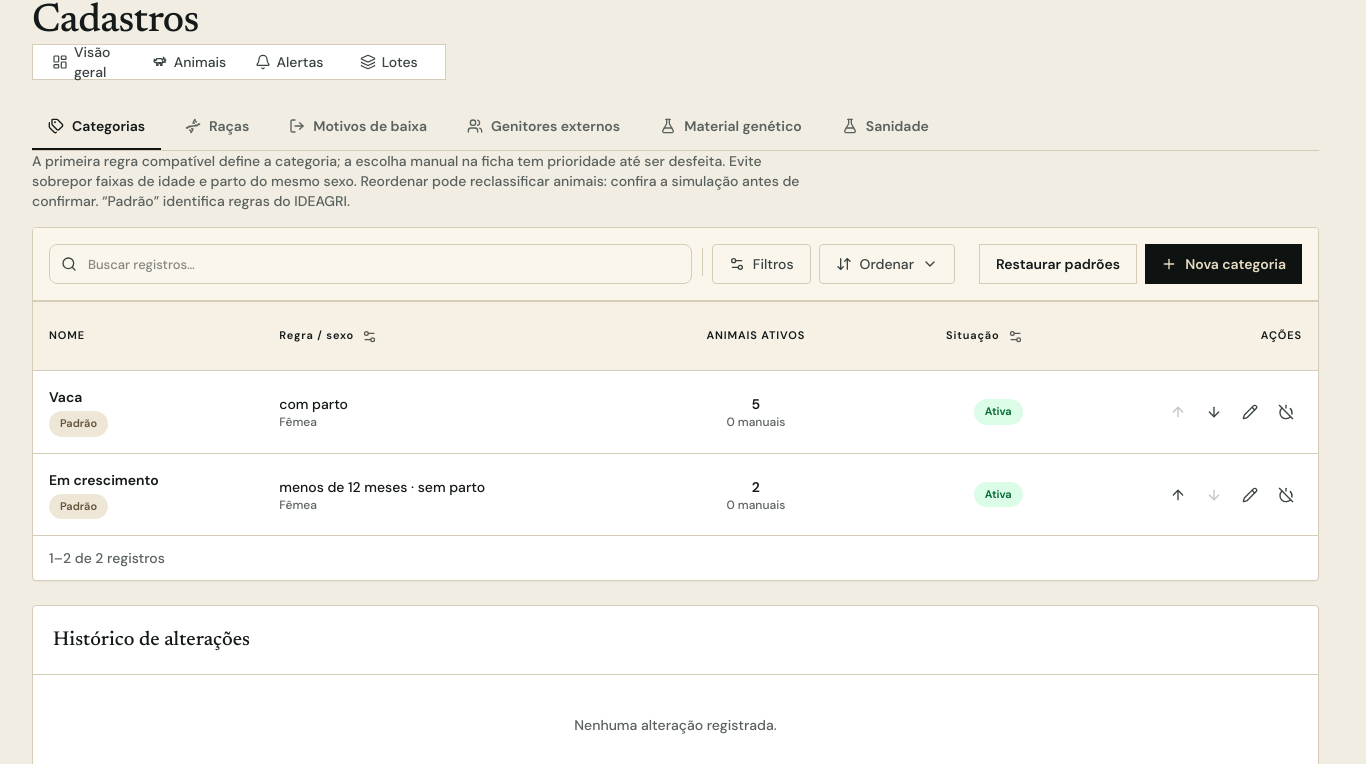
Scenario: Cadastros do rebanho — categorias › lista categorias ativas na ordem, com regra e selo Padrão; inativas só aparecem com o filtro
This screenshot has width=1366, height=764.
Expected: the text "Vaca" is shown, [49,388,82,406]
Expected: the text "Em crescimento" is shown, [49,471,159,489]
Step 1. Click the button "Filtros" → (761, 264), box [712,244,811,284]
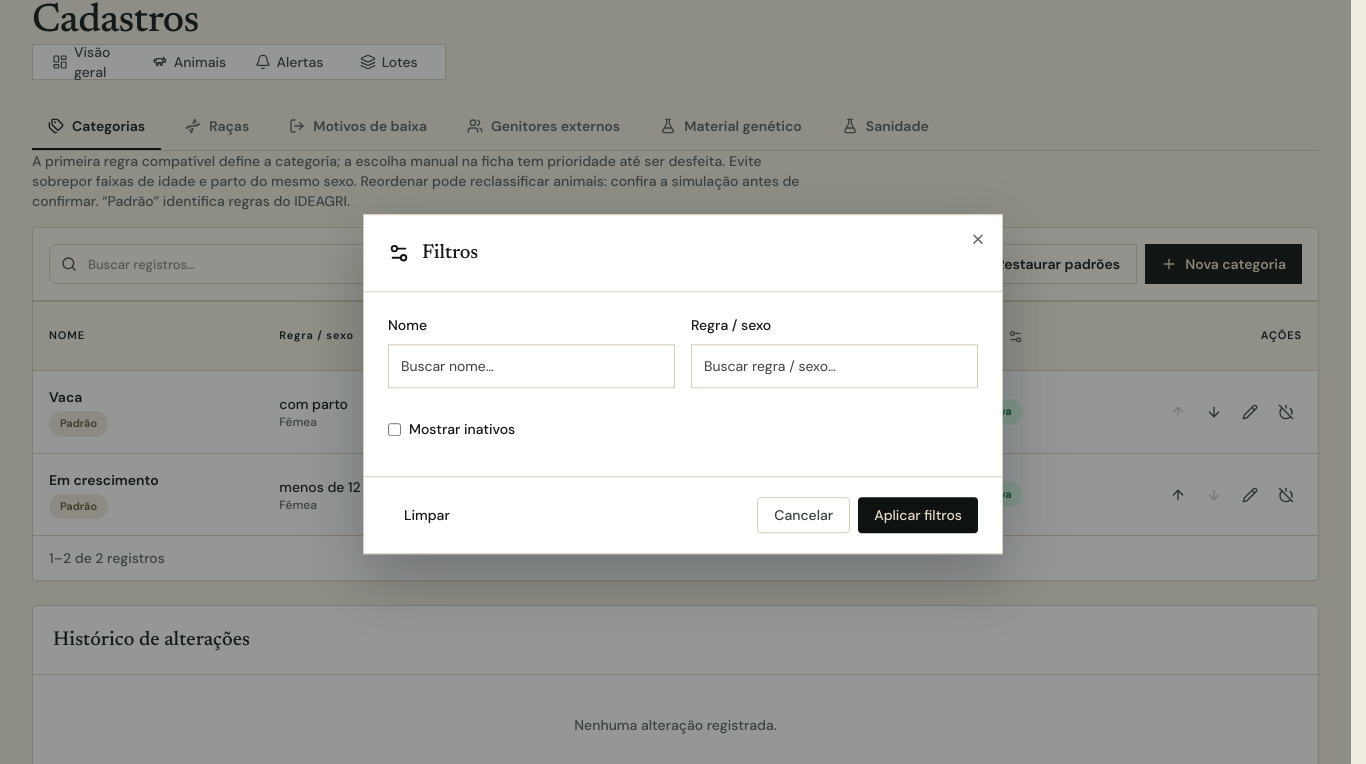
Step 2. Click the checkbox labelled "Mostrar inativos" → (394, 430), box [388,423,401,436]
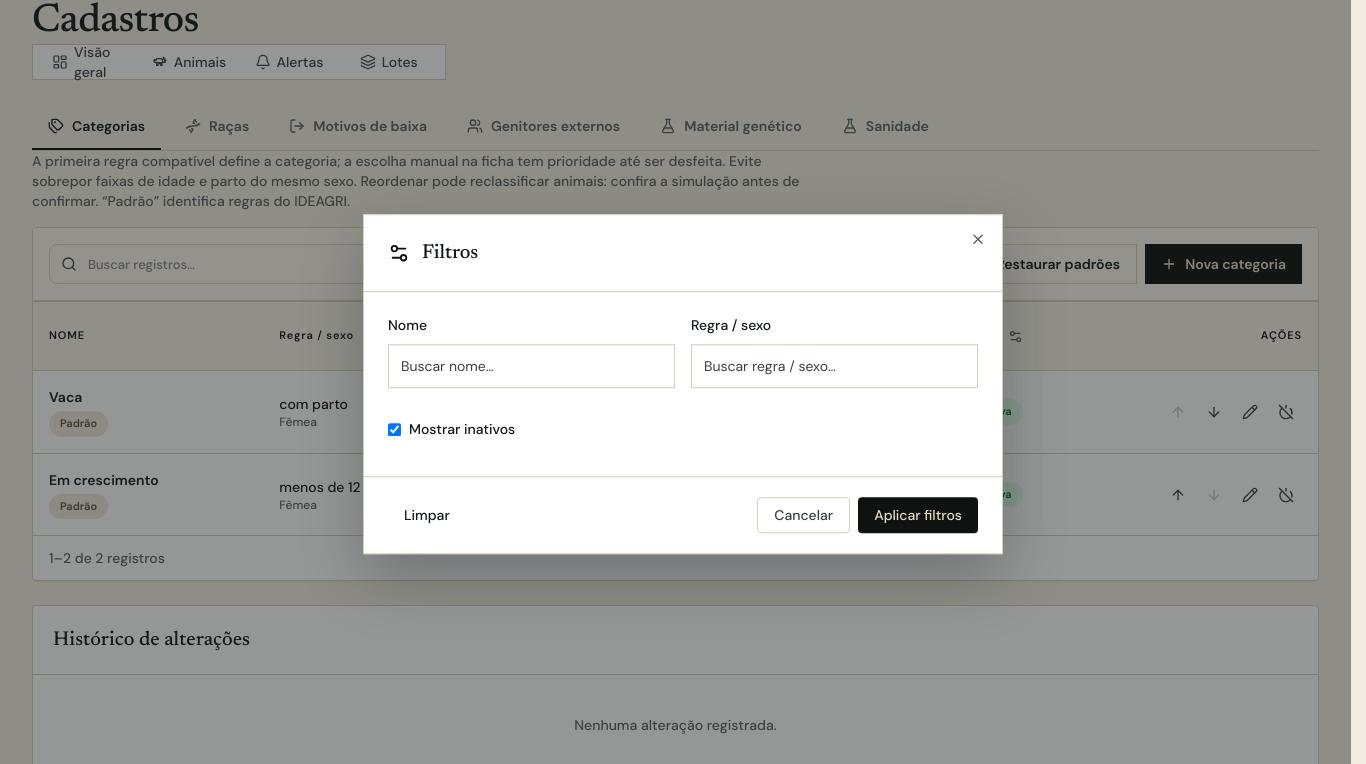
Step 3. Click the button "Aplicar filtros" → (918, 515), box [858,497,978,533]
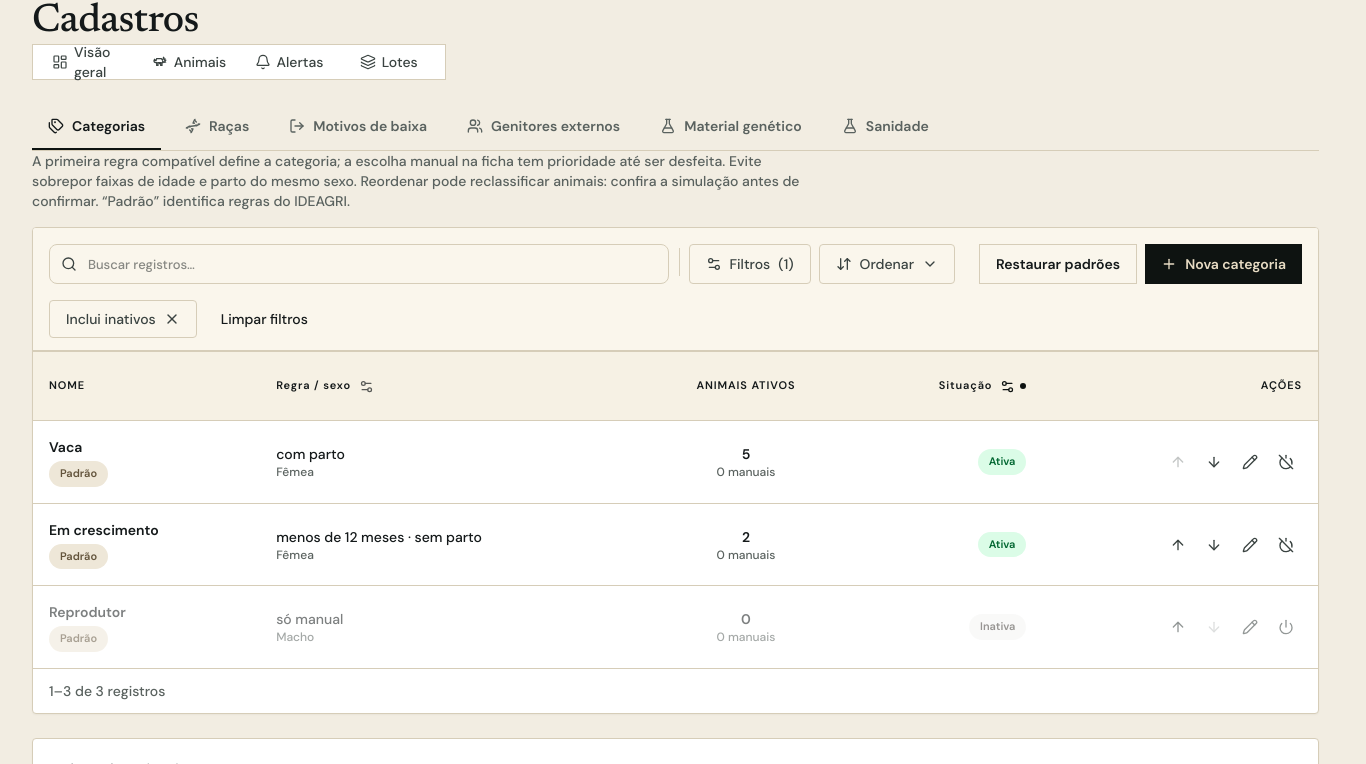
Result: the text "Reprodutor" is shown at [49,603,126,621]
